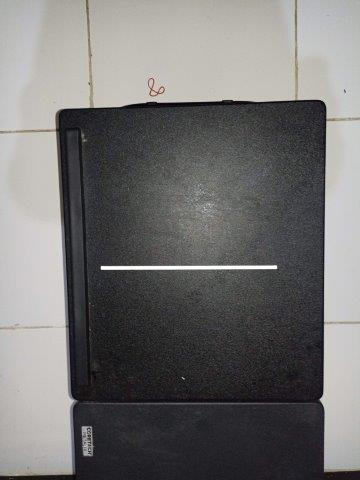karet: (146, 77, 166, 97)
sedotan: (100, 265, 277, 271)
